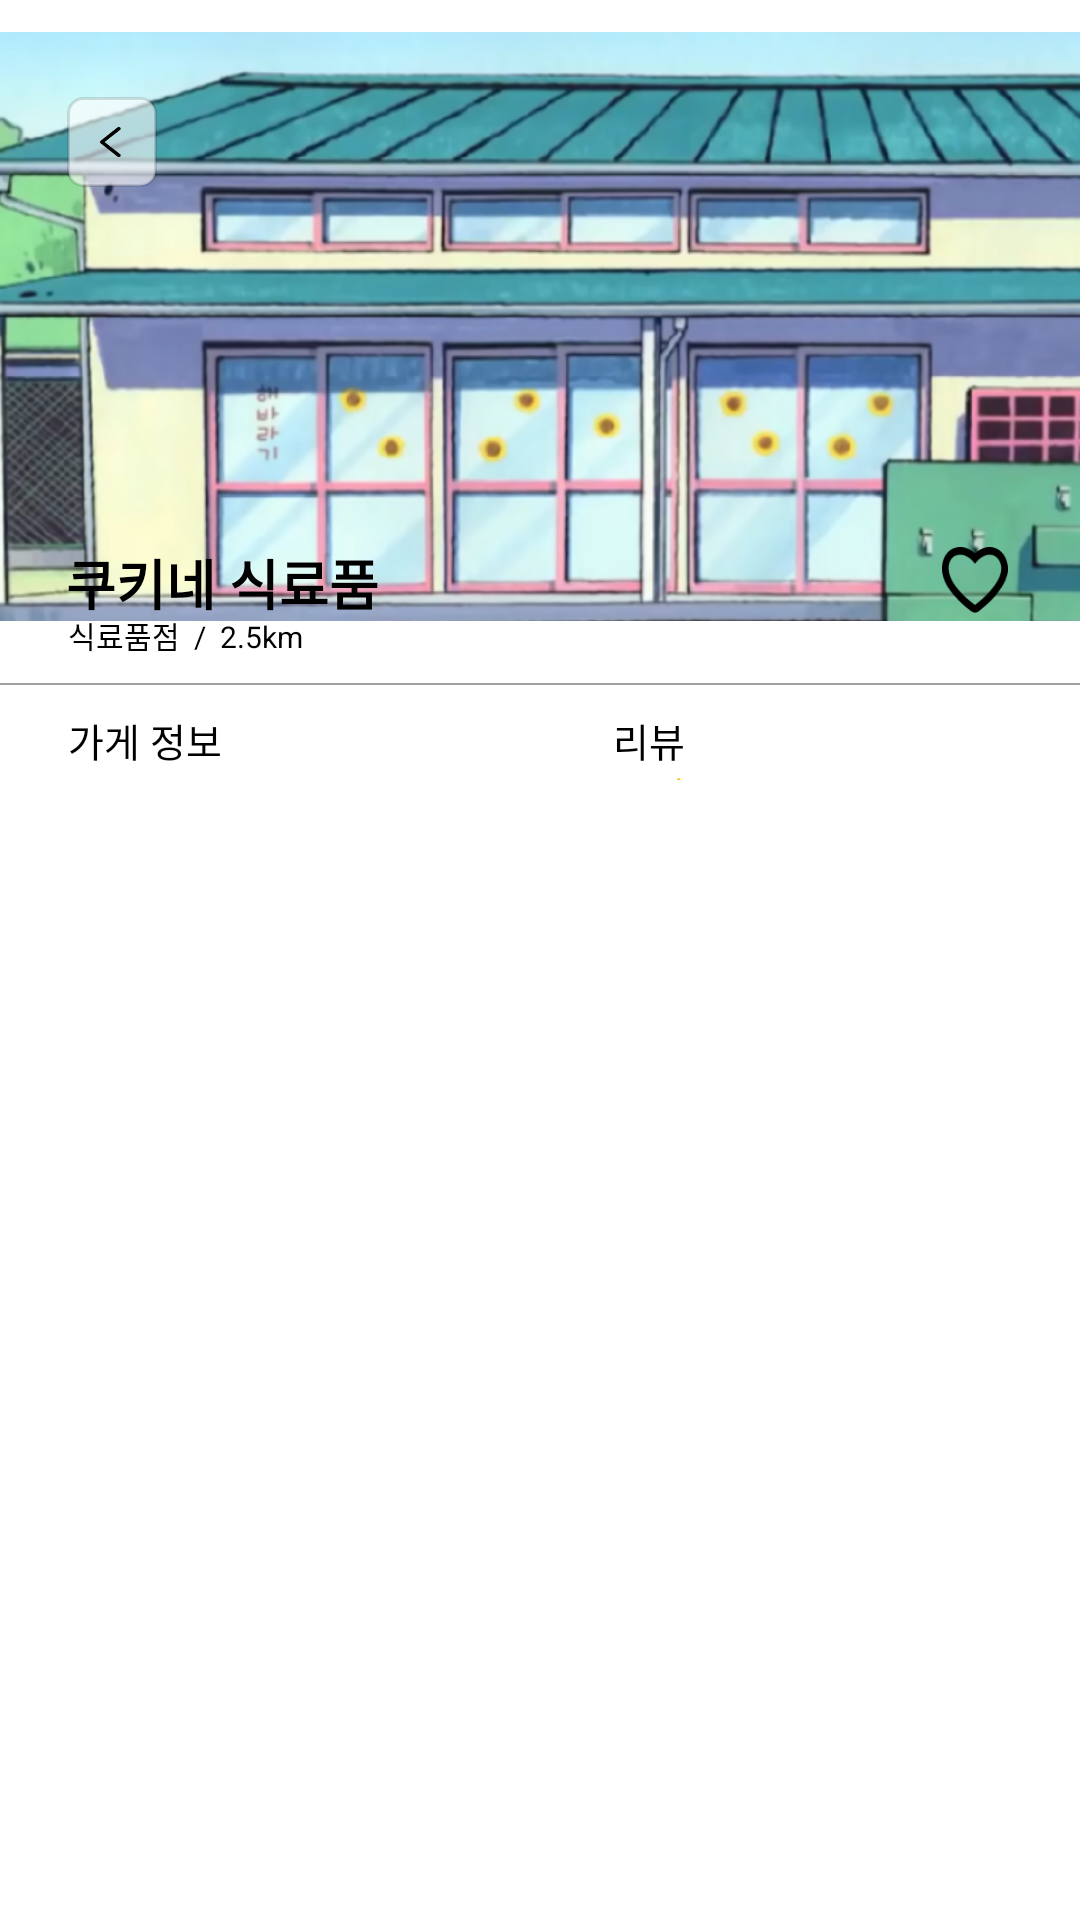

Screen size 1080×1920. Icon name, then its center in pixels as (x=x, y=y):
empty heart: (x=975, y=580)
